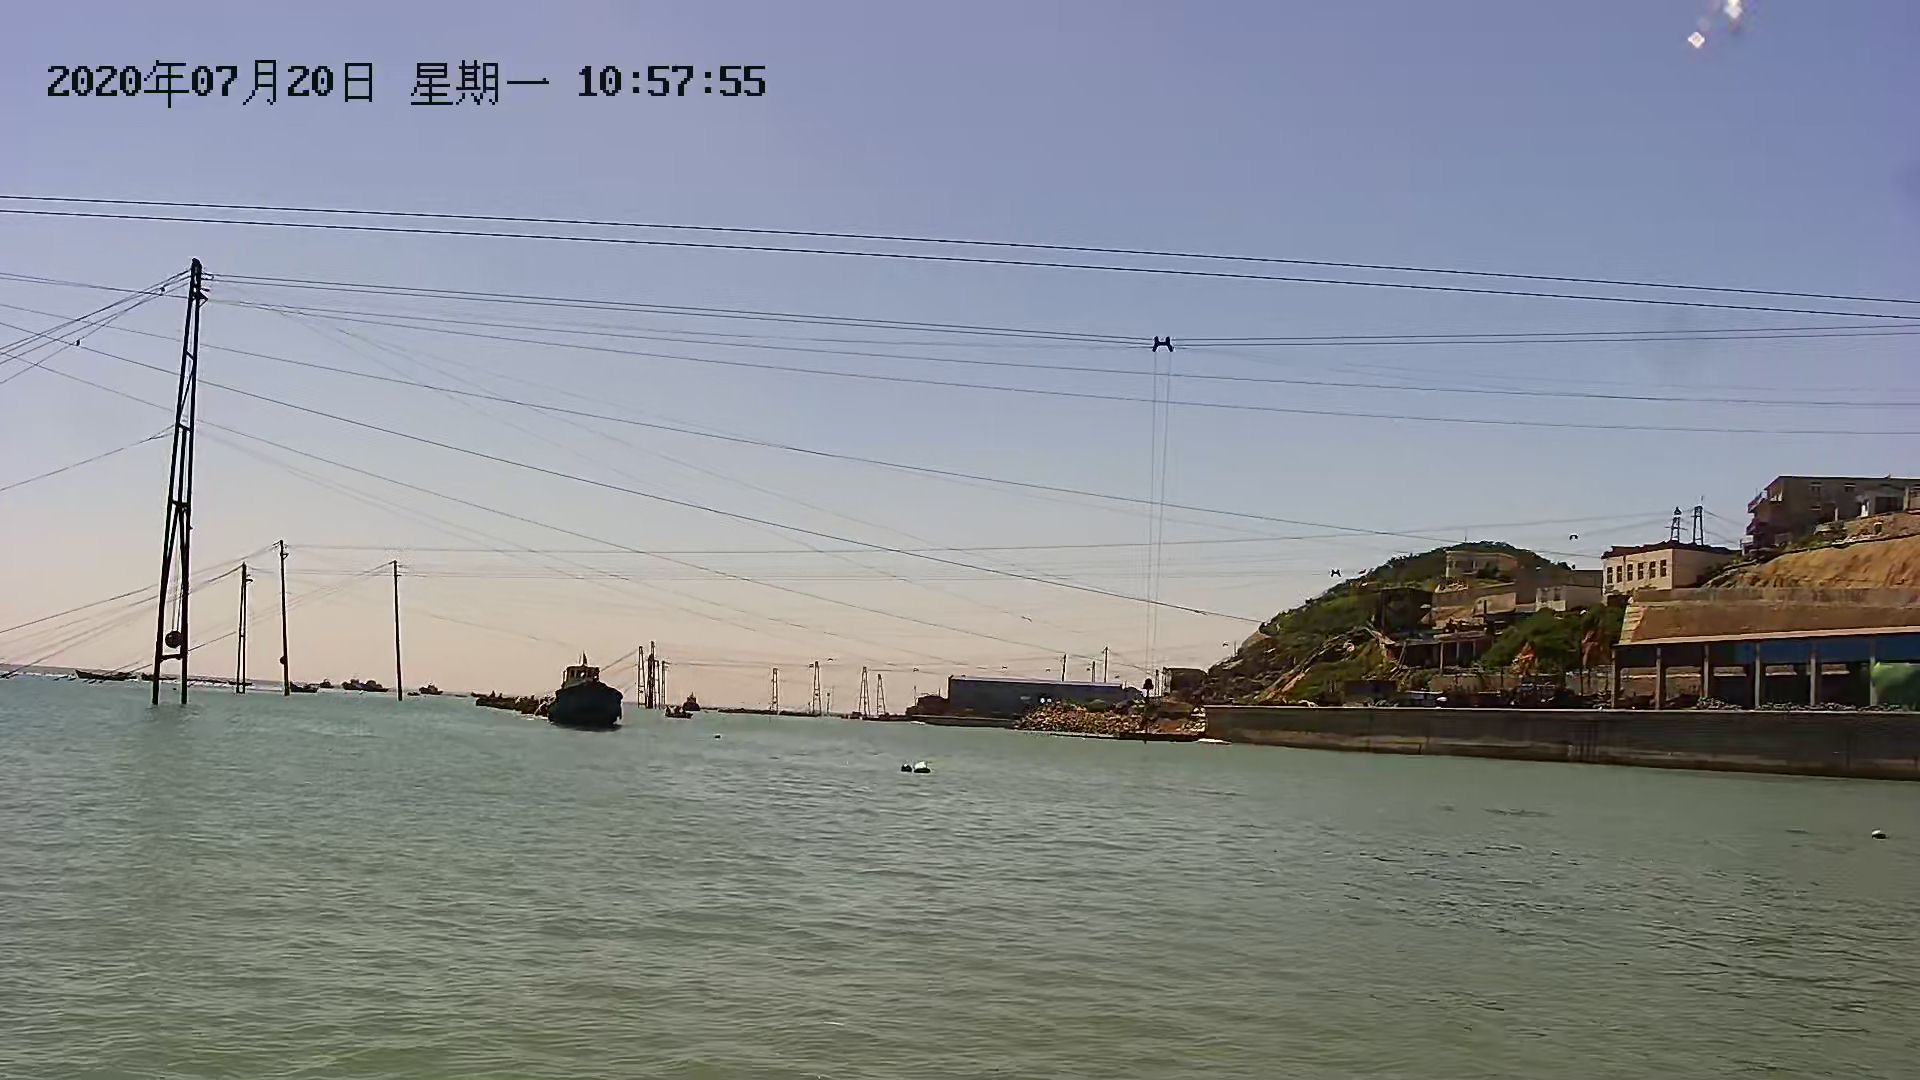ball: (899, 760, 918, 775)
boat: (76, 665, 135, 683)
mast: (149, 256, 210, 711), (386, 560, 411, 699), (276, 541, 295, 702), (233, 560, 251, 698)
rubbish: (477, 688, 538, 717), (913, 760, 934, 775)
ship: (541, 659, 625, 737)
